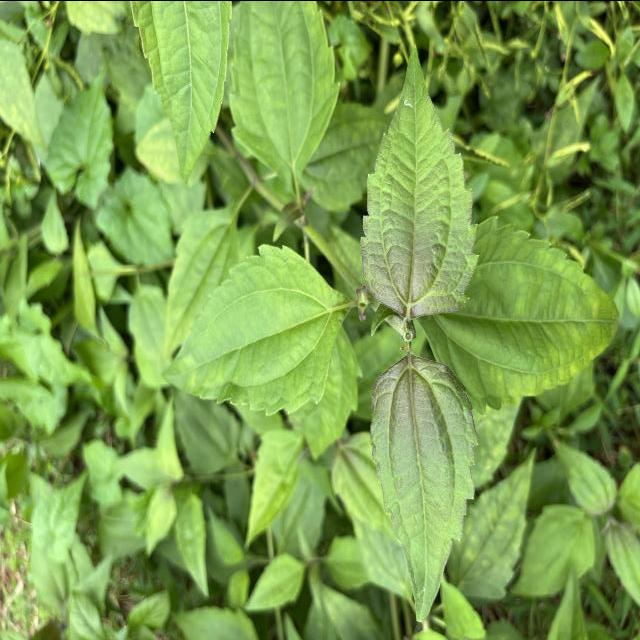Chromolaena odorata: (357, 40, 483, 322), (366, 350, 482, 626)
